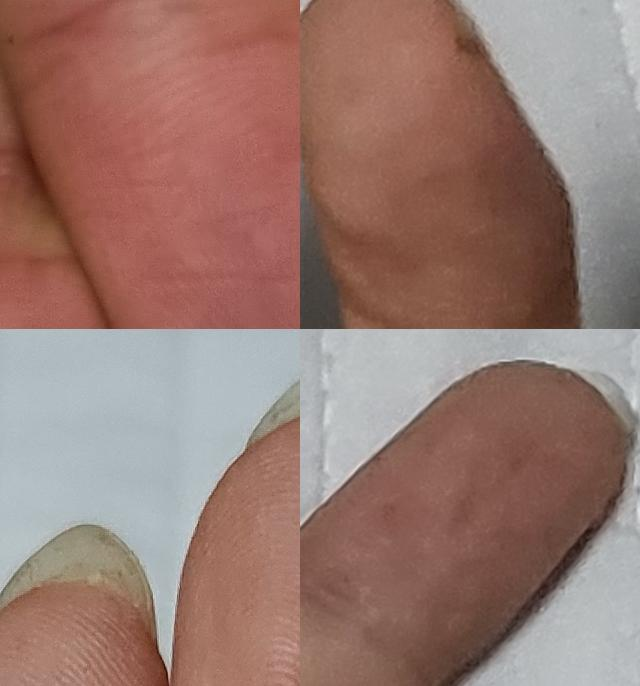Fingerprints: (300, 361, 628, 683), (300, 0, 576, 329), (170, 416, 300, 686)
